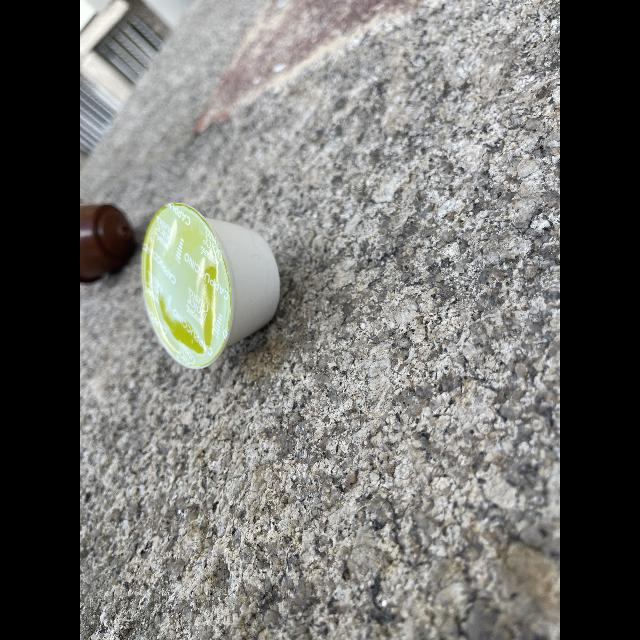intact_capsule: (139, 198, 289, 378)
